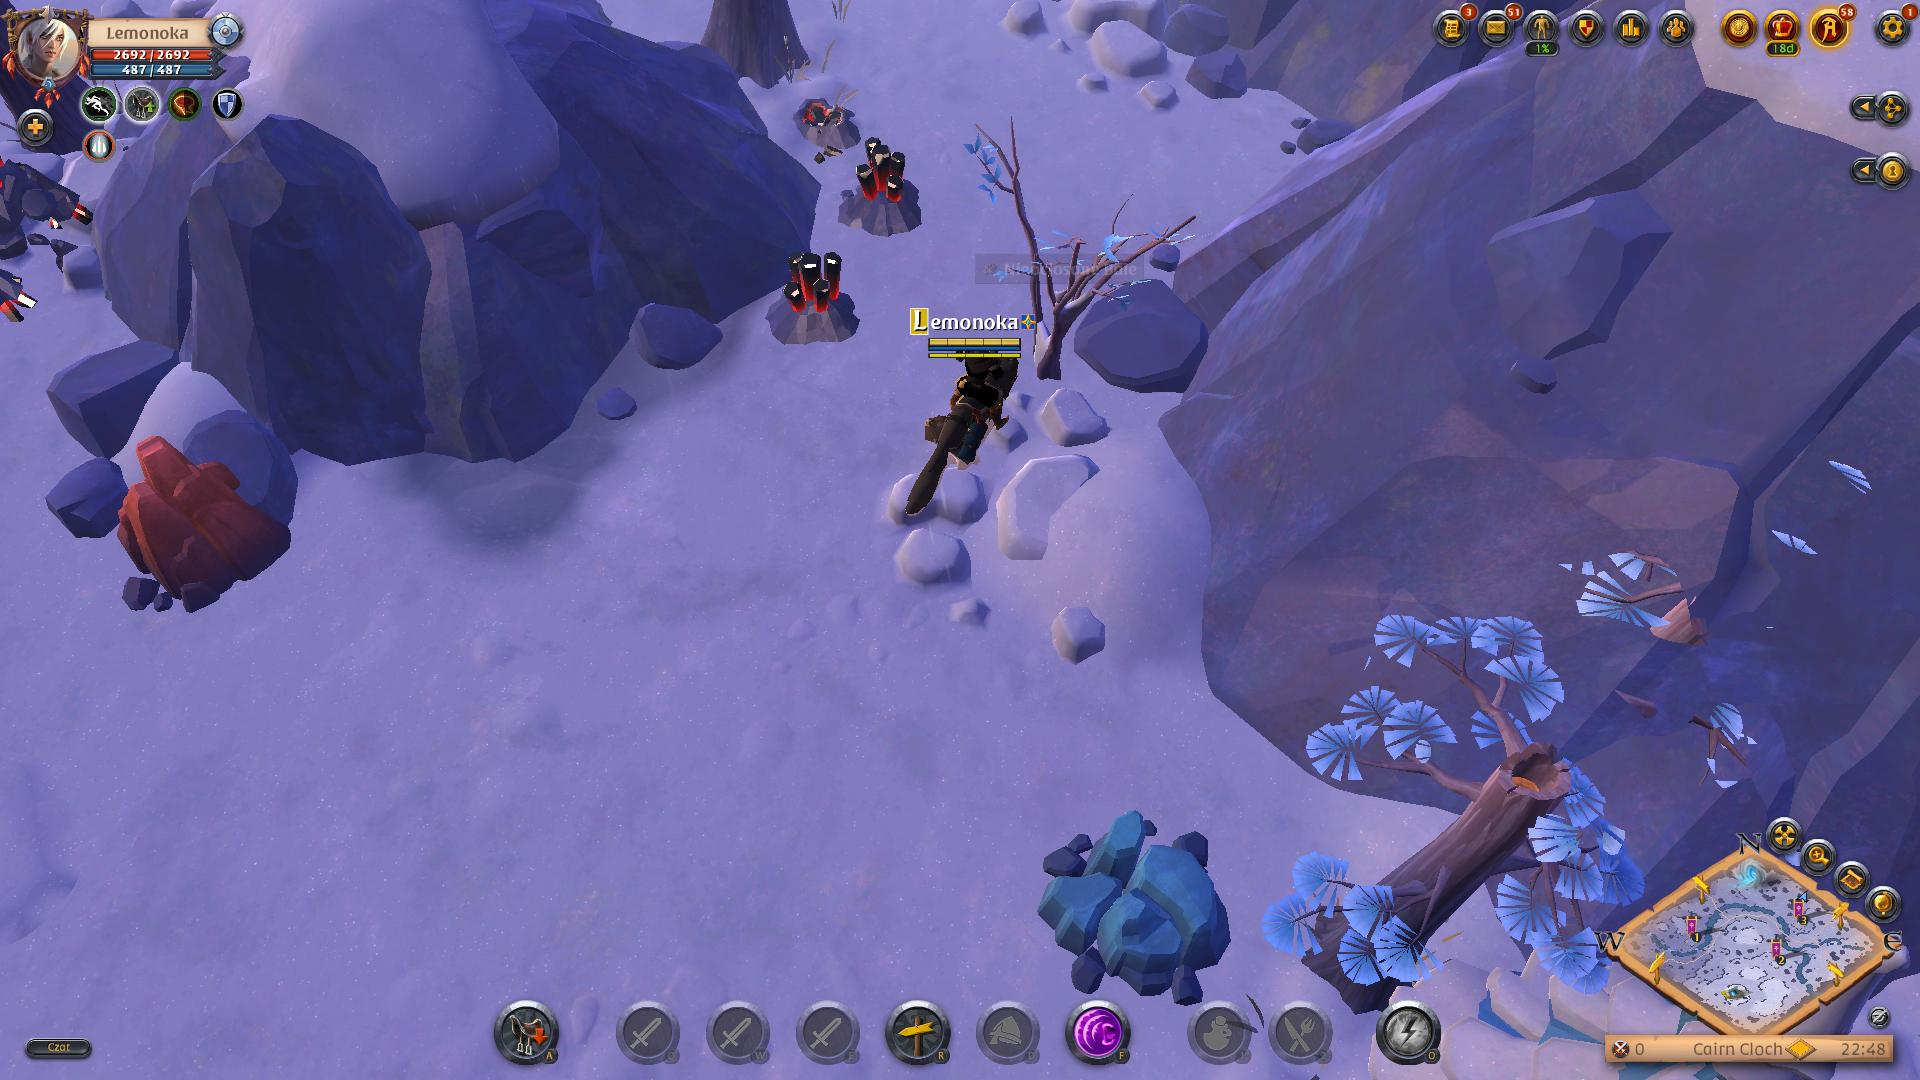ore tier 5: (844, 136, 935, 245), (766, 240, 855, 349)
rock tier 3: (1038, 807, 1236, 1000)
rock tier 5: (107, 427, 311, 612)
